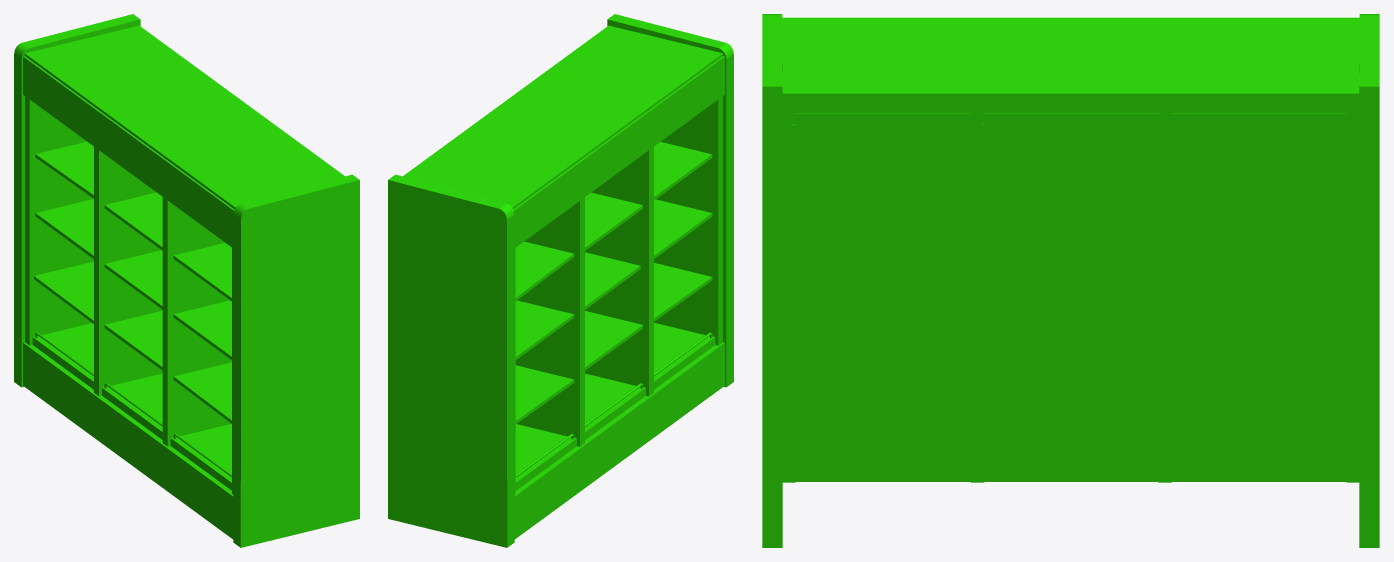
File: Shop_Fridge_03_Lod0.fbx
The picture shows the model from 3 angles, left to right: view 1: azimuth 30°, elevation 25°; view 2: azimuth 150°, elevation 25°; view 3: azimuth 270°, elevation 25°; orthographic projection. The views are drawn at different scales.
Visible parts, largest first — view 1: Shop_Fridge_03_Lod0; view 2: Shop_Fridge_03_Lod0; view 3: Shop_Fridge_03_Lod0.
Boxes of the visible parts, x1,y1,x2,y2 form: Shop_Fridge_03_Lod0: [14, 14, 359, 547]; Shop_Fridge_03_Lod0: [388, 14, 733, 547]; Shop_Fridge_03_Lod0: [762, 14, 1379, 547].
Bounding box in the file's own units: 77.06 × 210 × 254.
